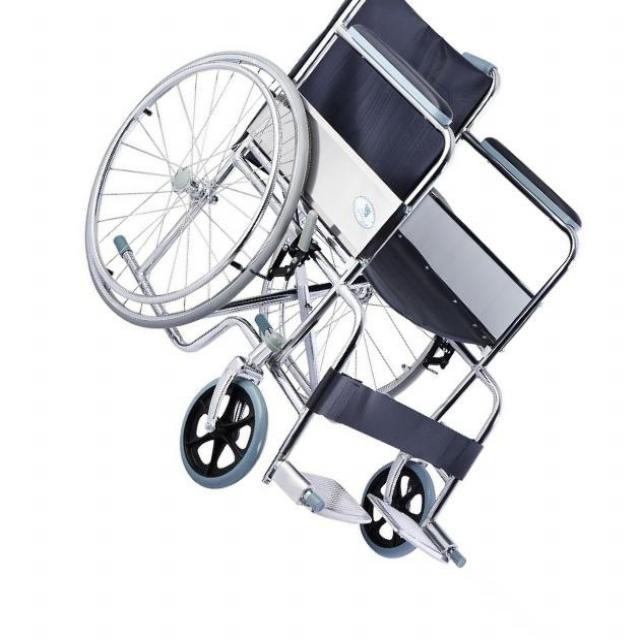wheelchair: (78, 0, 590, 584)
